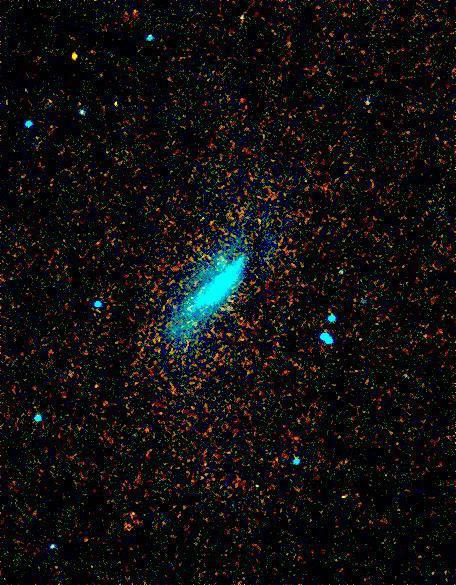star: (59, 42, 89, 72)
